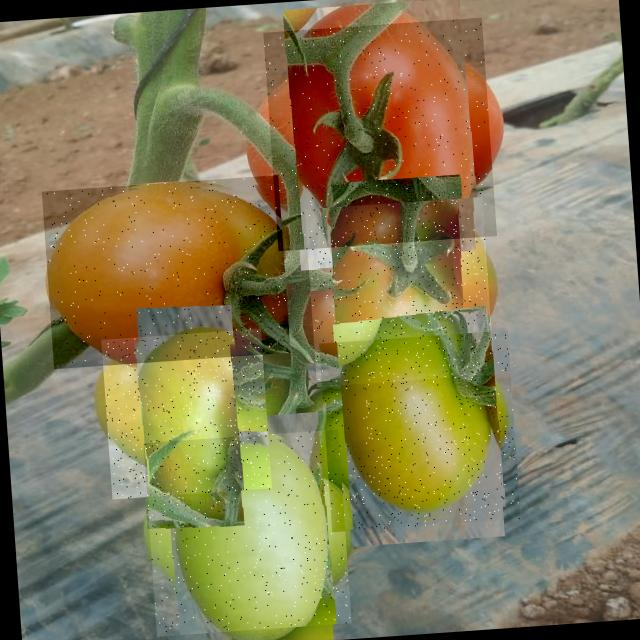Ripe Tomato: (263, 17, 497, 251)
Unripe Tomato: (42, 174, 290, 368), (143, 429, 351, 636), (318, 330, 520, 532), (304, 196, 494, 386), (101, 328, 272, 499)
